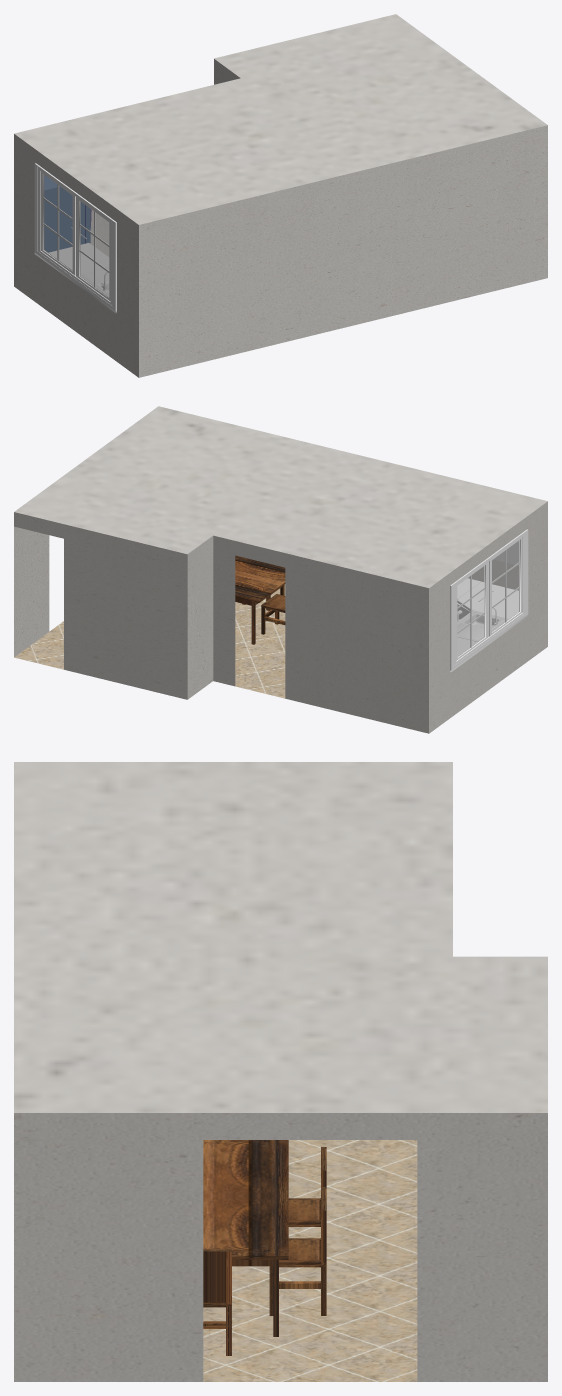
Rendered from kitchen0.1.0.fbx.
3 renders of one model, top to bottom at view 1: azimuth 30°, elevation 25°; view 2: azimuth 150°, elevation 25°; view 3: azimuth 270°, elevation 25°, orthographic. The views are drawn at different scales.
Parts seen in each view (by area): view 1: KitchenRoomBox, 16639_12_Pane_Casement_Window-White_V1, Refrigerator, Dishwasher; view 2: KitchenRoomBox, 16639_12_Pane_Casement_Window-White_V1, Cube, Cube.016, Cube.003, sink_low; view 3: KitchenRoomBox, Cube, Cube.001, Cube.005, Cube.002.
Boxes of the visible parts, x1,y1,x2,y2 form: KitchenRoomBox: [14, 14, 547, 377]; 16639_12_Pane_Casement_Window-White_V1: [34, 163, 116, 313]; Refrigerator: [44, 175, 91, 252]; Dishwasher: [49, 243, 109, 273]; KitchenRoomBox: [14, 406, 547, 733]; 16639_12_Pane_Casement_Window-White_V1: [450, 529, 528, 672]; Cube: [235, 555, 285, 644]; Cube.016: [457, 582, 518, 618]; Cube.003: [261, 594, 285, 634]; sink_low: [457, 612, 504, 640]; KitchenRoomBox: [14, 762, 547, 1381]; Cube: [203, 1140, 288, 1336]; Cube.001: [269, 1187, 326, 1315]; Cube.005: [203, 1249, 231, 1355]; Cube.002: [288, 1147, 326, 1226].
Bounding box in the file's own units: 3511 × 1250 × 2250.
